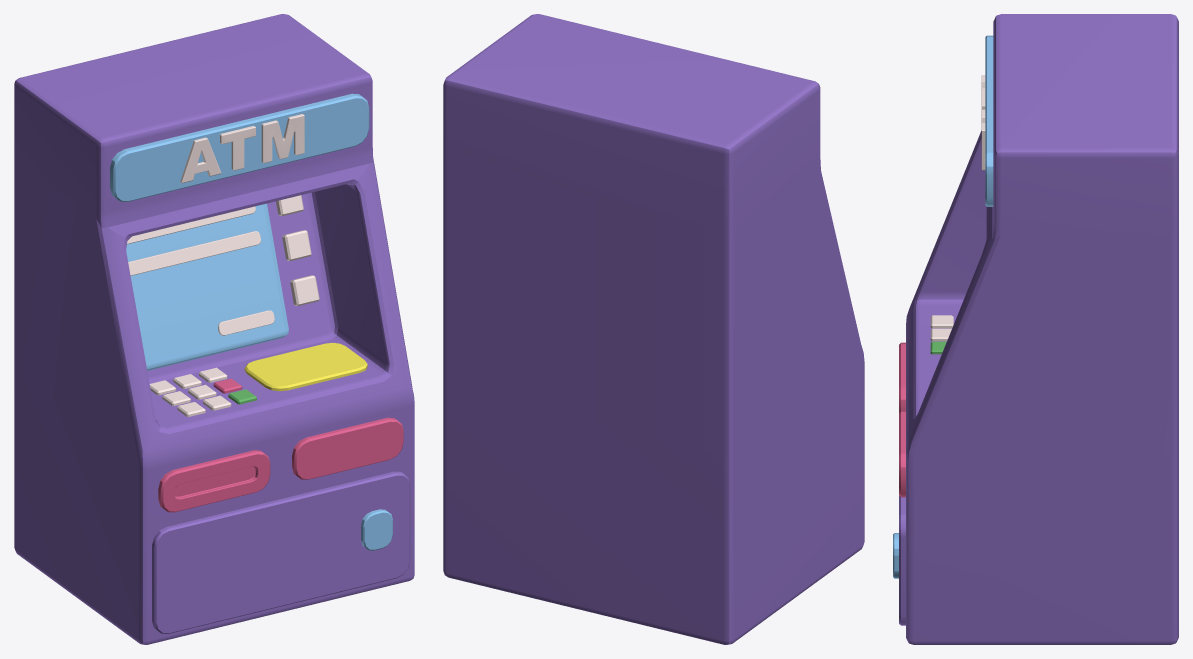
File: Atm.fbx
3 views of the same model, side by side, from view 1: azimuth 30°, elevation 25°; view 2: azimuth 150°, elevation 25°; view 3: azimuth 270°, elevation 25° (orthographic). The views are drawn at different scales.
Parts seen in each view (by area): view 1: Atm; view 2: Atm; view 3: Atm.
Part boxes in pixels (box(x1,y1,x2,y2)): Atm: box(14, 14, 414, 644); Atm: box(443, 14, 864, 644); Atm: box(893, 14, 1178, 644).
Size of the model in its own units: 264 by 436 by 228.
1 material, 1 textured.
